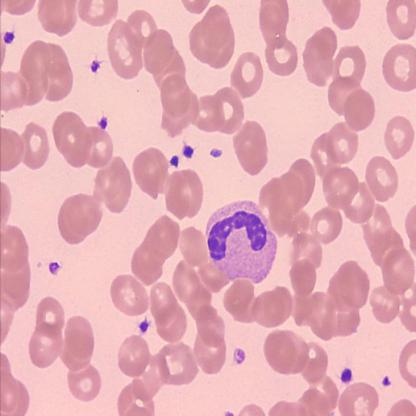Band Neutrophil: (201, 196, 281, 286)
